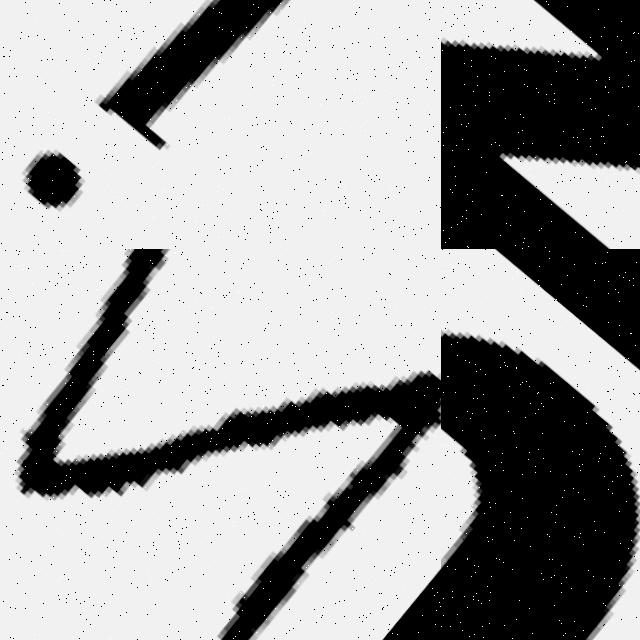J: (0, 0, 441, 249)
N: (0, 249, 441, 640)
U: (441, 249, 640, 640)
Z: (441, 0, 640, 249)
